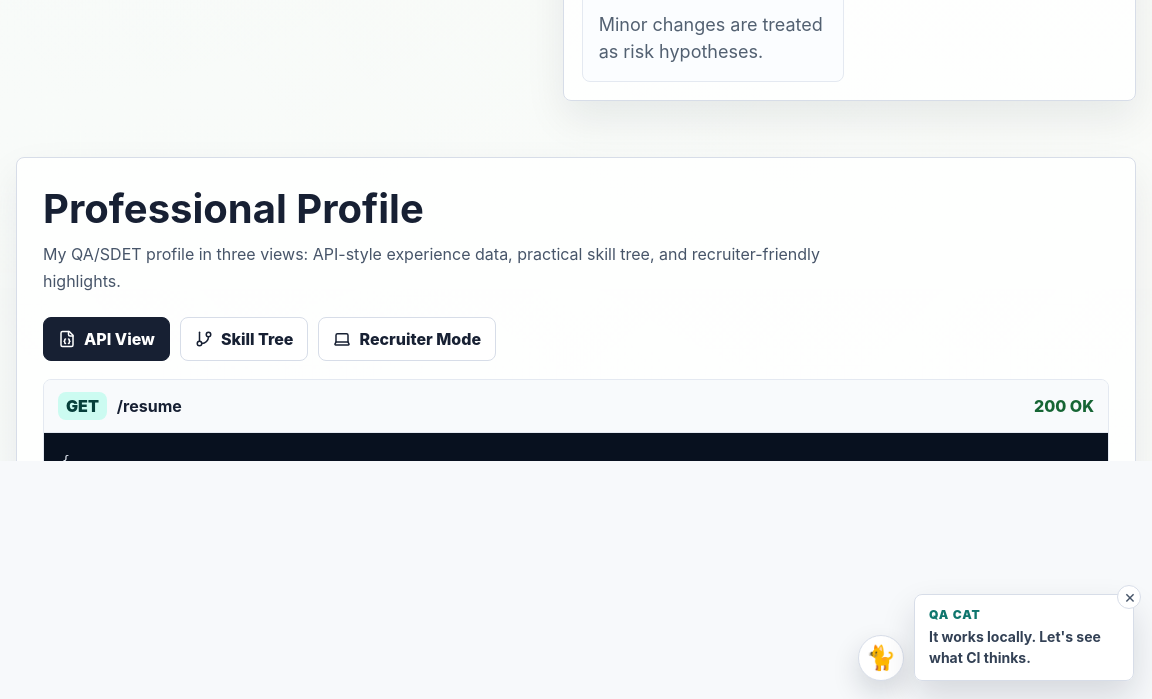
Test: Galina QA Control Center UI › switches to the Skill Tree profile view
The image size is (1152, 699).
(page scrolled)
Click the button "Skill Tree": {"x": 244, "y": 339} 180,317 -> 308,361
(page scrolled)
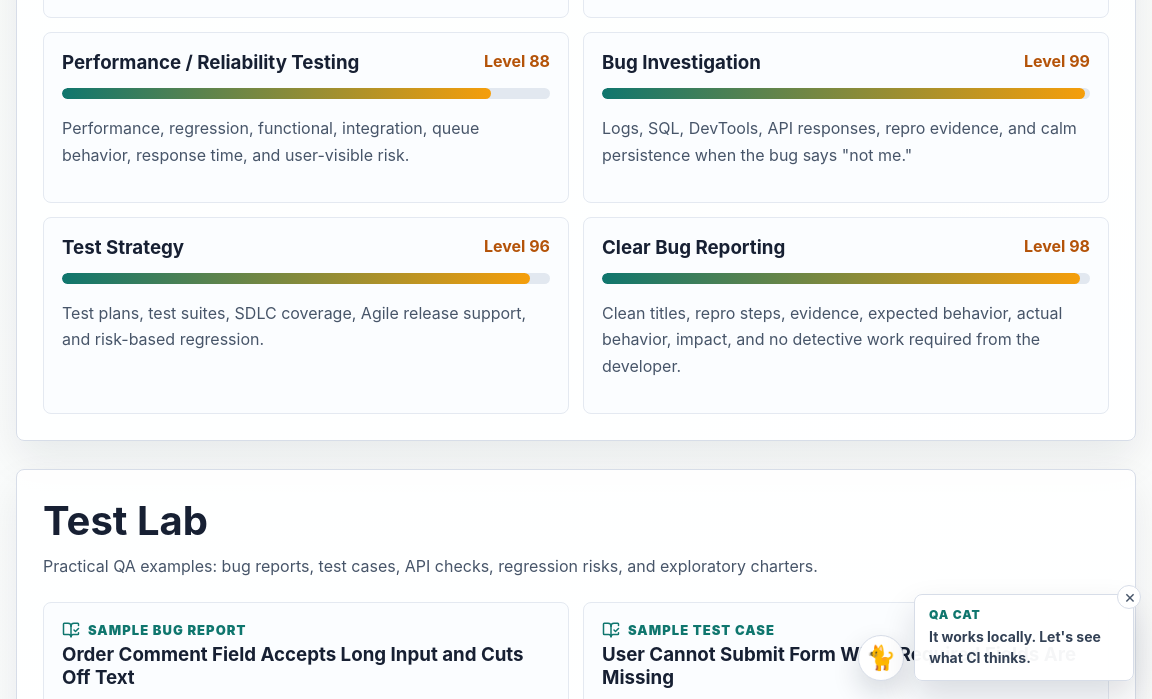
Result: the heading "Performance / Reliability Testing" is shown at 62,51 -> 359,74
Result: the heading "Test Strategy" is shown at 62,236 -> 184,259
Result: the heading "Clear Bug Reporting" is shown at 602,236 -> 785,259
